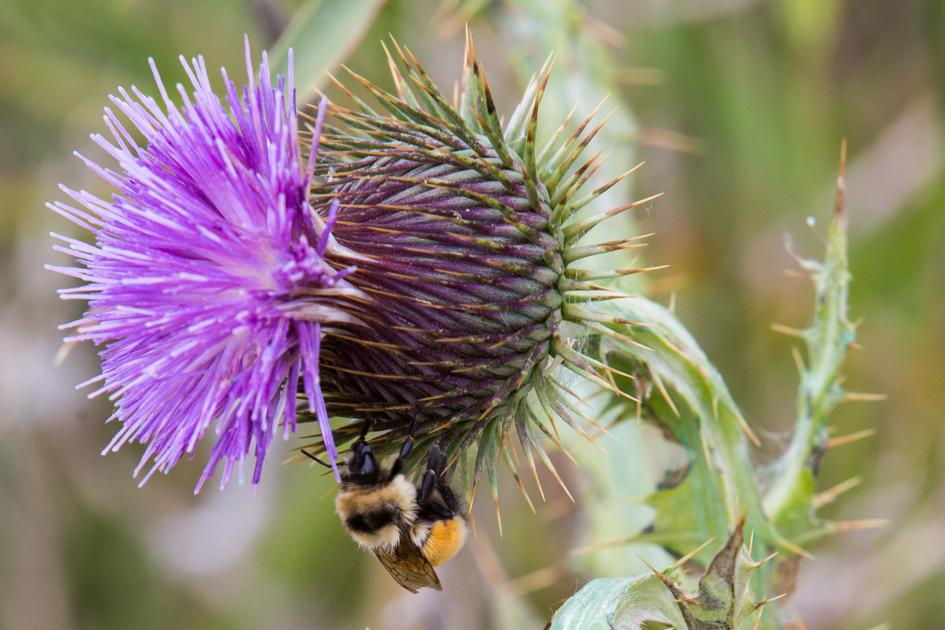thistle: (84, 50, 646, 490)
